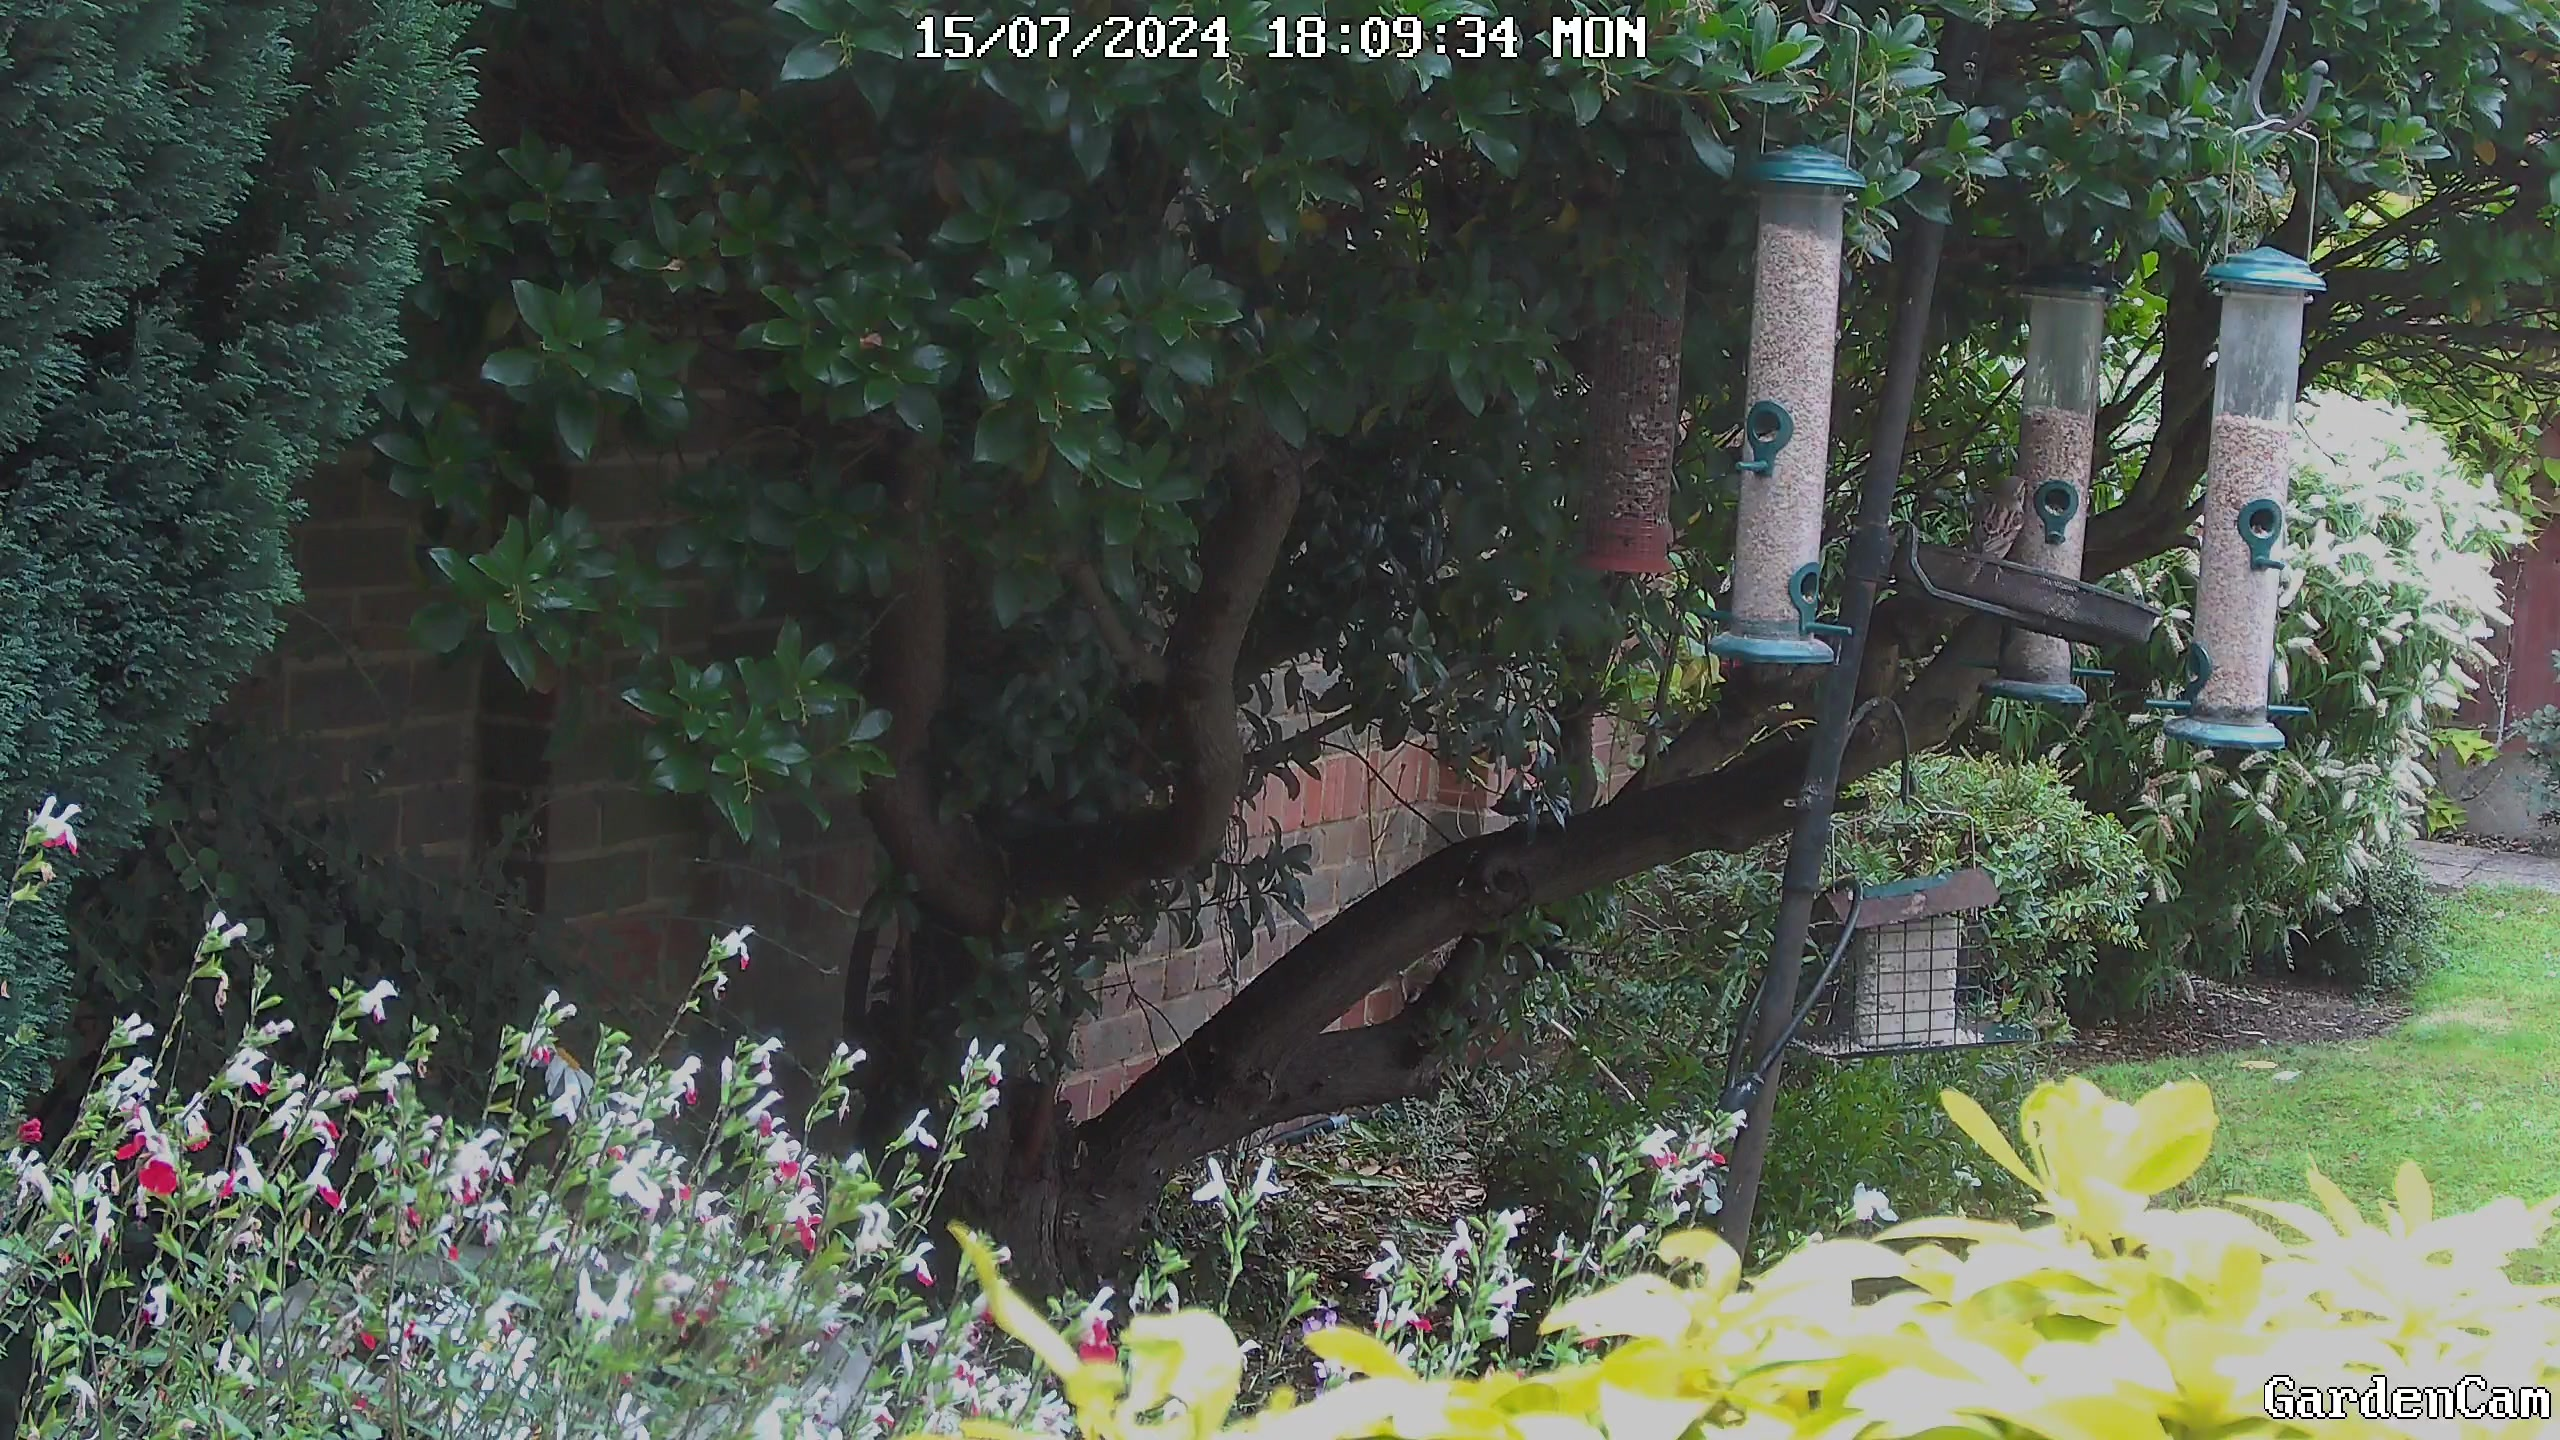House_Sparrow: (1953, 462, 2054, 617)
